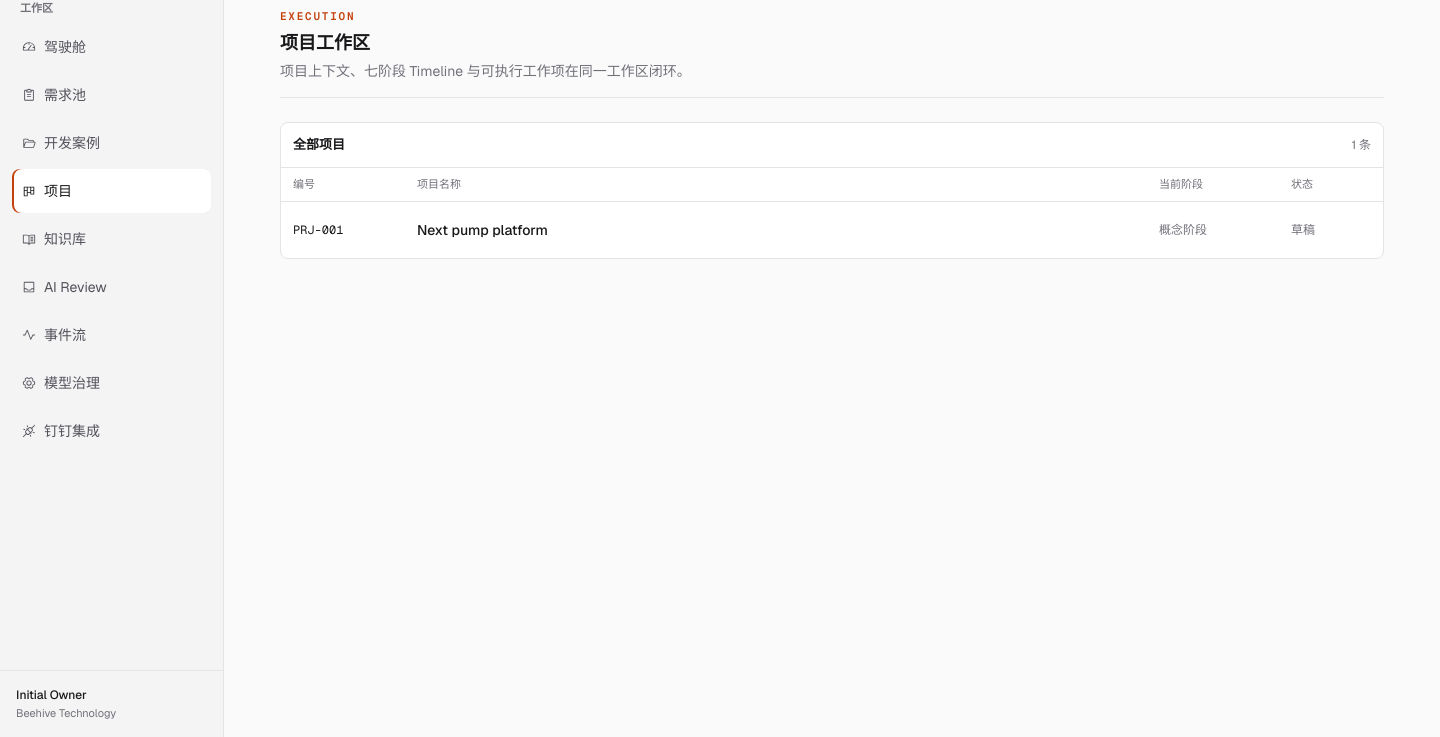
Test: ProjectWorkspace › uses explicit status and adjacent-stage actions
This screenshot has width=1440, height=737.
Click the button with aria-label "打开项目 PRJ-001".
click(318, 230)  # box [281,202,1383,258]
(page scrolled)
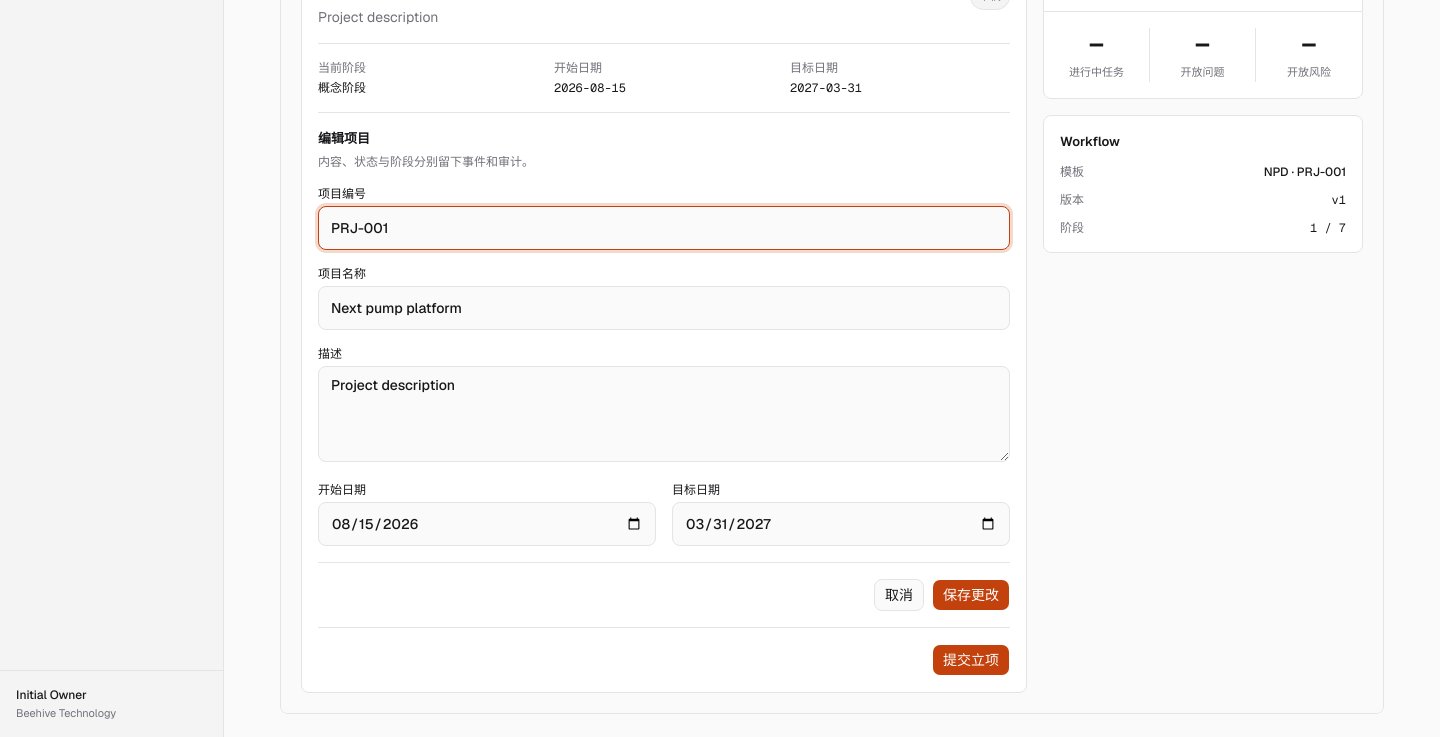
Click the button "提交立项".
click(971, 660)  # box [932,644,1010,676]
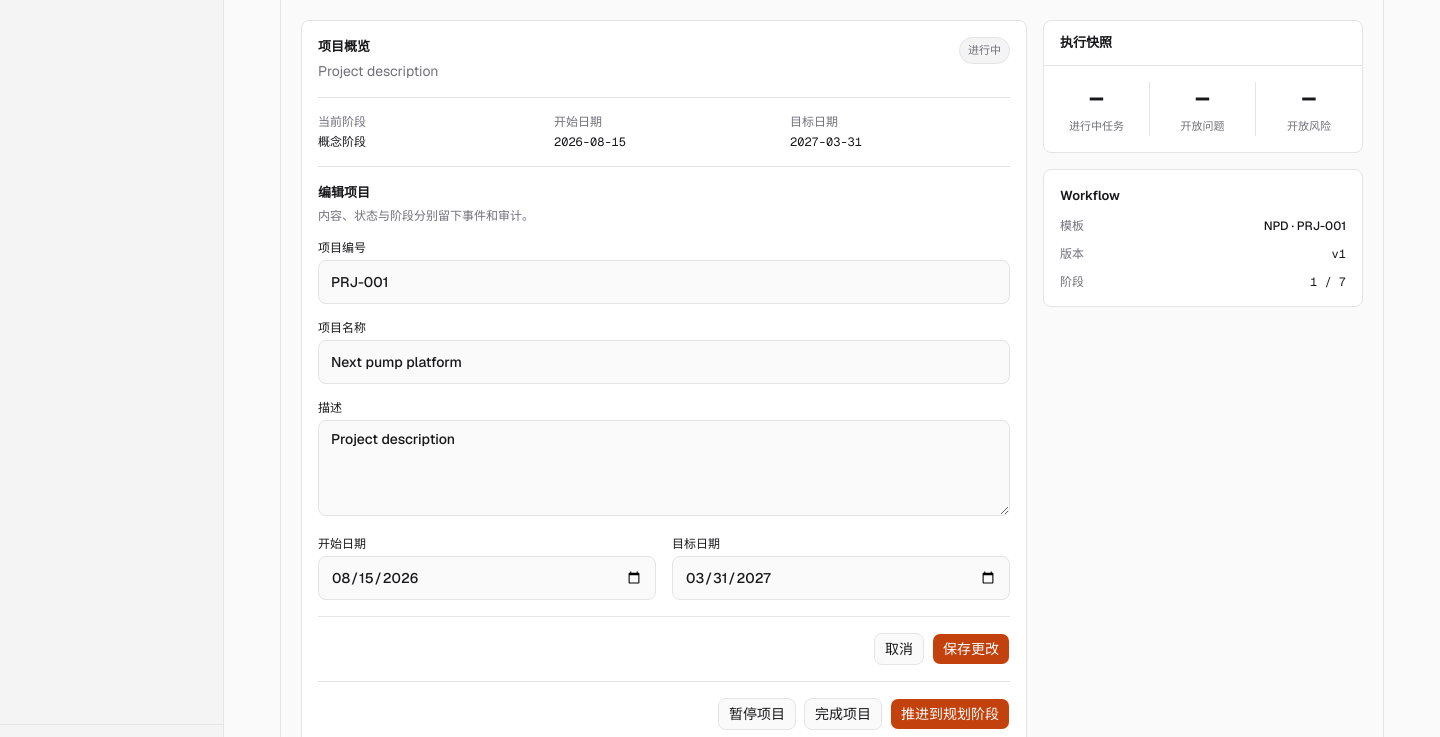
Click the button "推进到规划阶段".
click(950, 714)  # box [890,698,1010,730]
(page scrolled)
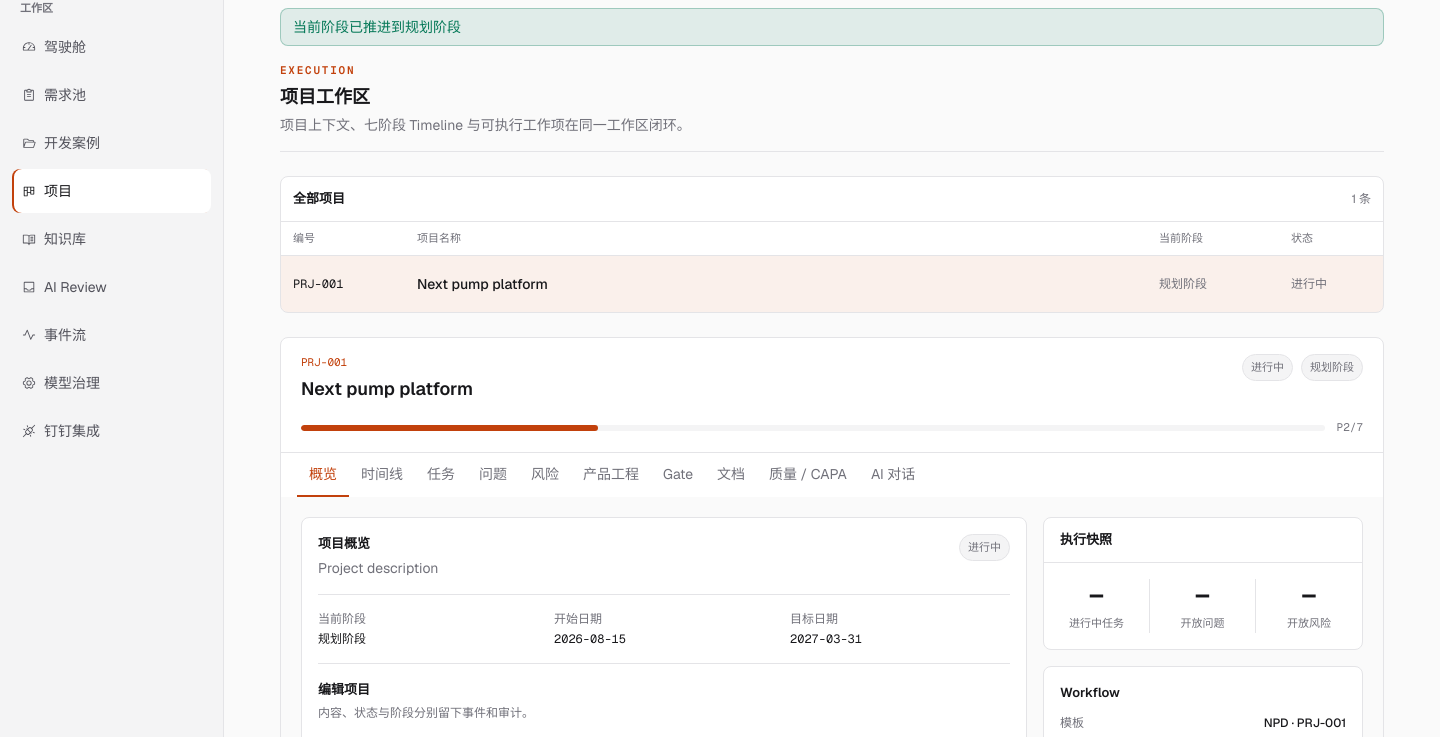
Check: the message reads "当前阶段已推进到规划阶段", box [293,18,461,36]
